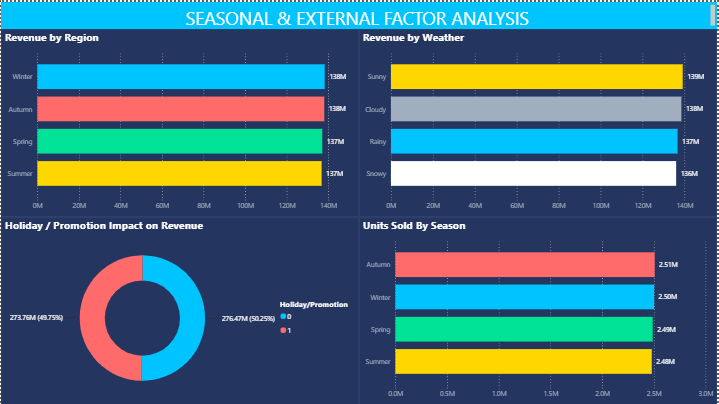

This screenshot's page, from the dashboard's own definition file:
{"tool":"powerbi","page":{"name":"Seasonal & External Factors","canvas":[1280,720],"ordinal":3},"visuals":[{"type":"textbox","box":[0,0,1280,50],"z":0},{"type":"textbox","box":[150,190,300,300],"z":1000},{"type":"clusteredBarChart","title":"Revenue by Region","fields":{"Y":["Sum(cleaned_sales_data.Revenue)"],"Category":["cleaned_sales_data.Seasonality"]},"box":[0,48,640,336],"z":2000},{"type":"clusteredBarChart","title":"Revenue by Weather","fields":{"Y":["Sum(cleaned_sales_data.Revenue)"],"Category":["cleaned_sales_data.Weather Condition"]},"box":[640,48,640,336],"z":3000},{"type":"donutChart","title":"Holiday / Promotion Impact on Revenue","fields":{"Category":["cleaned_sales_data.Holiday/Promotion"],"Y":["Sum(cleaned_sales_data.Revenue)"]},"box":[0,384,640,336],"z":4000},{"type":"clusteredBarChart","title":"Units Sold By Season","fields":{"Category":["cleaned_sales_data.Seasonality"],"Y":["Sum(cleaned_sales_data.Units Sold)"]},"box":[640,384,640,336],"z":4001}]}

Visuals, with their boxes in screenshot pixels (x1, y1, x2, y2), scaled from the page's 1280x720 canvas onto the 719x404 screenshot:
textbox: {"x1": 0, "y1": 0, "x2": 718, "y2": 28}
textbox: {"x1": 84, "y1": 107, "x2": 253, "y2": 275}
"Revenue by Region" clusteredBarChart: {"x1": 0, "y1": 27, "x2": 360, "y2": 215}
"Revenue by Weather" clusteredBarChart: {"x1": 360, "y1": 27, "x2": 718, "y2": 215}
"Holiday / Promotion Impact on Revenue" donutChart: {"x1": 0, "y1": 215, "x2": 360, "y2": 403}
"Units Sold By Season" clusteredBarChart: {"x1": 360, "y1": 215, "x2": 718, "y2": 403}
